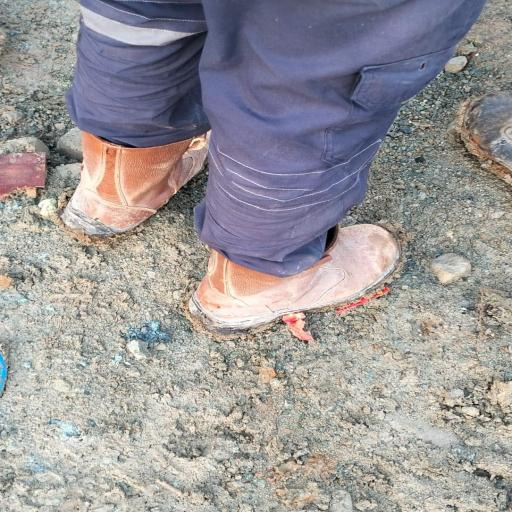safety_shoe: (194, 228, 403, 326), (62, 122, 208, 228)
